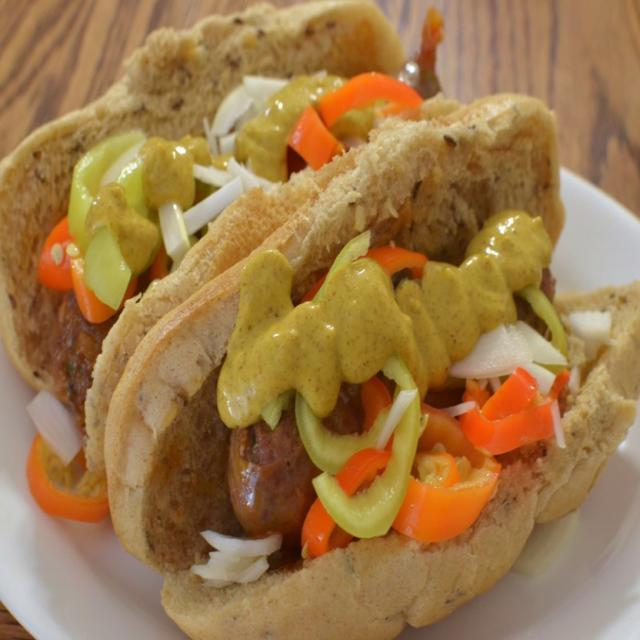Hot dog: (93, 82, 639, 639), (0, 0, 462, 492)
